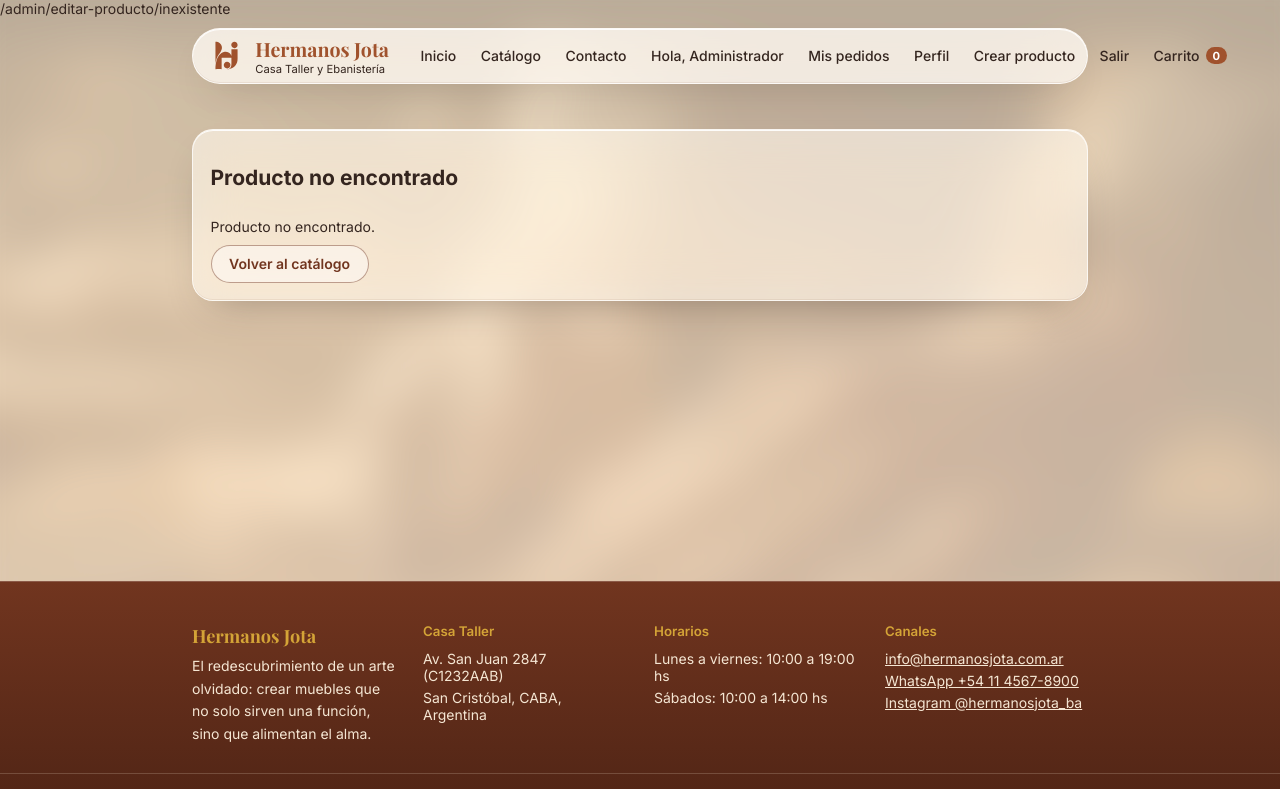
Scenario: muestra un producto inexistente en /admin/editar-producto/inexistente y permite volver
The width and height of the screenshot is (1280, 789).
Expected: the message "Producto no encontrado Producto no encontrado. Volver al catálogo" is shown, [192,129,1088,301]
Click the link "Volver al catálogo". click: (290, 264)
box: [210,245,369,282]
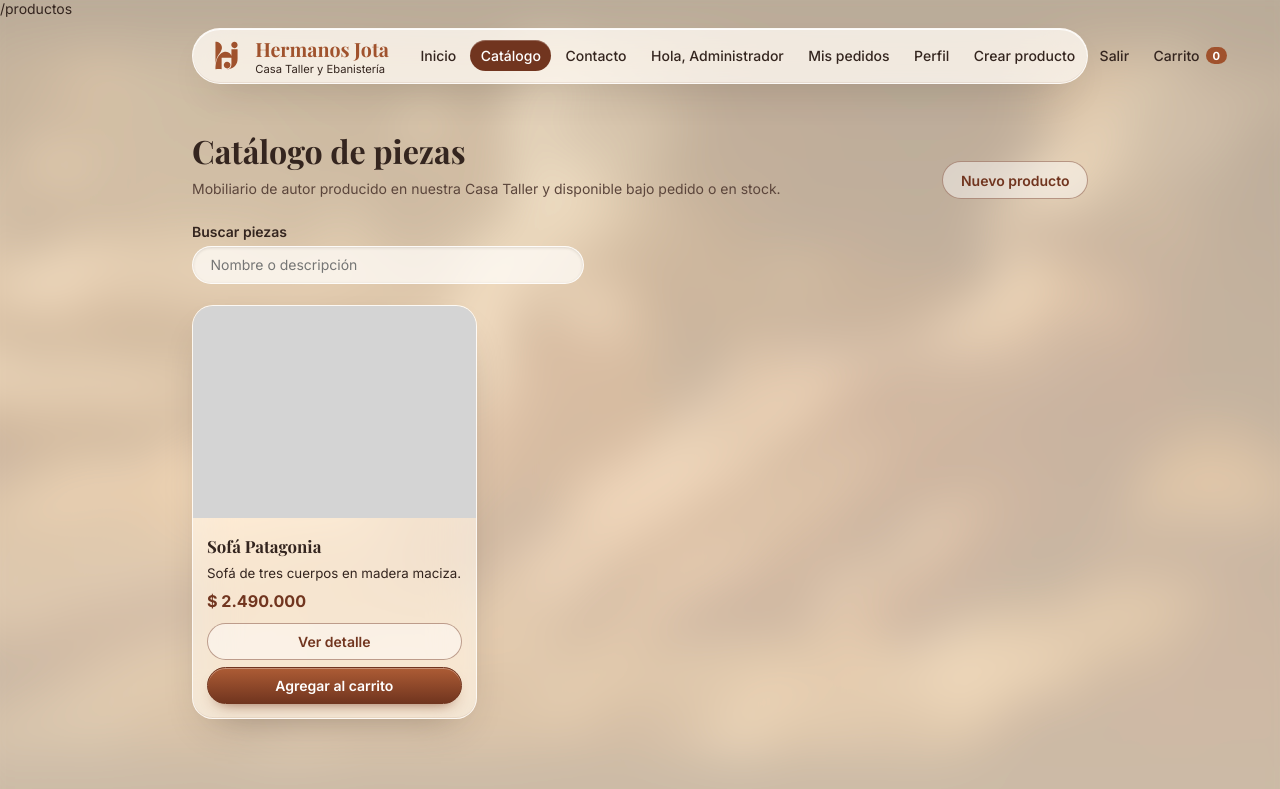
Now the text with test id "path" reads "/productos", box [0,0,72,17]
